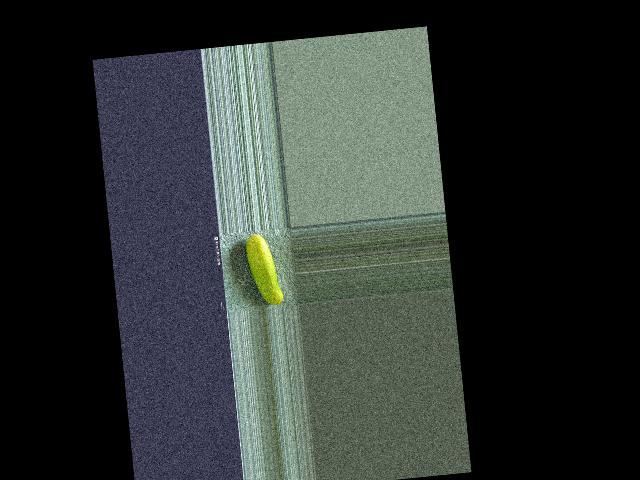cucumber: (244, 232, 283, 307)
